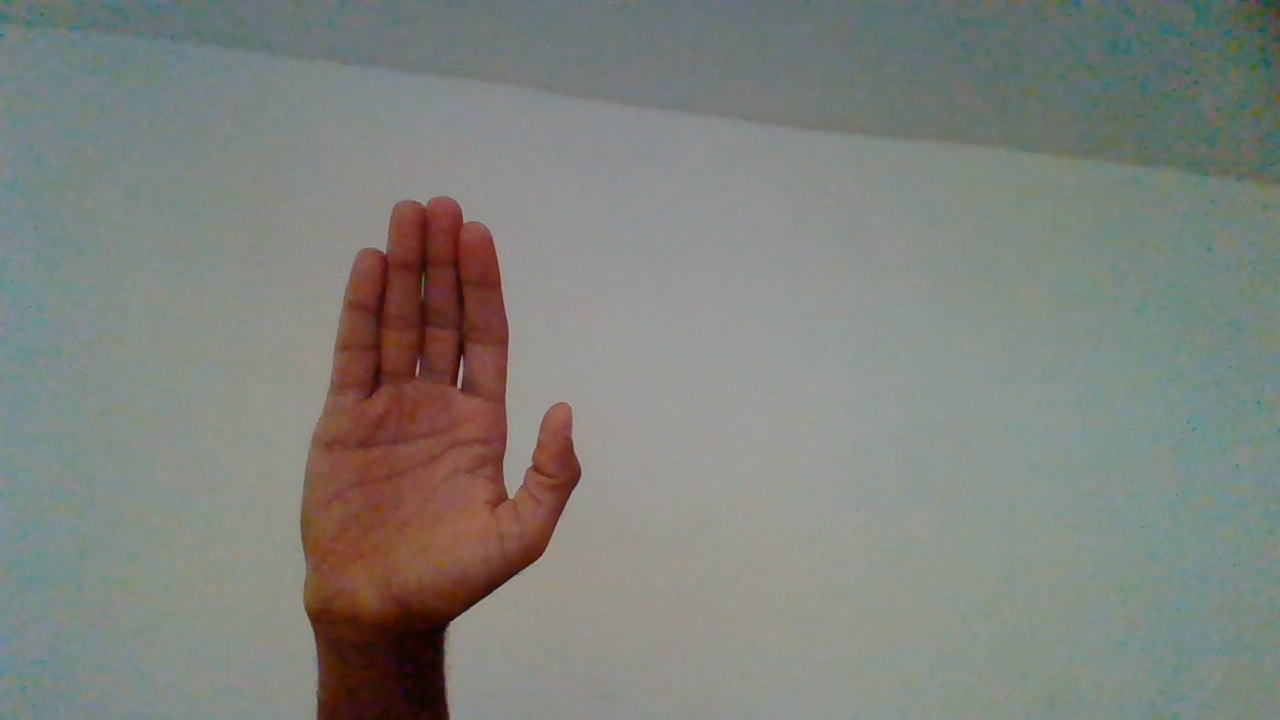ha: (287, 194, 583, 684)
